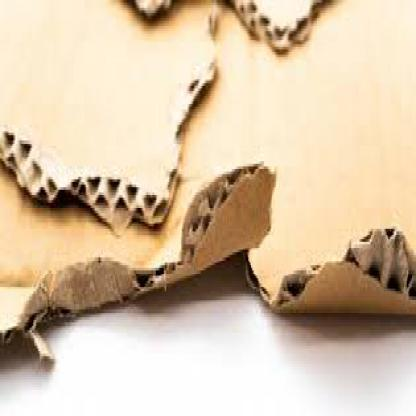CARDBOARD: (0, 0, 275, 369), (242, 0, 414, 317), (0, 0, 217, 229), (126, 0, 334, 52)
